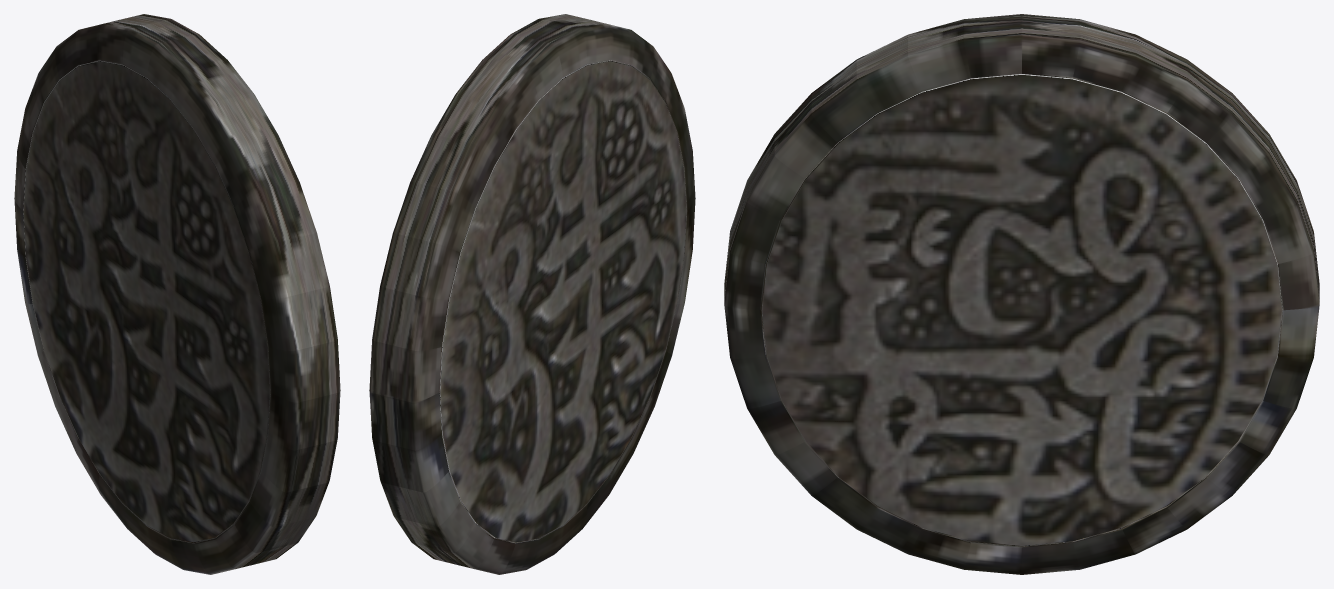
The model's file is coin.glb.
3 renders of one model, left to right at view 1: azimuth 30°, elevation 25°; view 2: azimuth 150°, elevation 25°; view 3: azimuth 270°, elevation 25°, orthographic. The views are drawn at different scales.
Visible parts, largest first — view 1: Cylinder; view 2: Cylinder; view 3: Cylinder.
Boxes of the visible parts, bbox=[...] form: Cylinder: bbox=[14, 14, 340, 574]; Cylinder: bbox=[369, 14, 695, 574]; Cylinder: bbox=[724, 14, 1319, 574].
Size of the model in its own units: 0.2871 by 2 by 2.
1 material, 1 textured.
